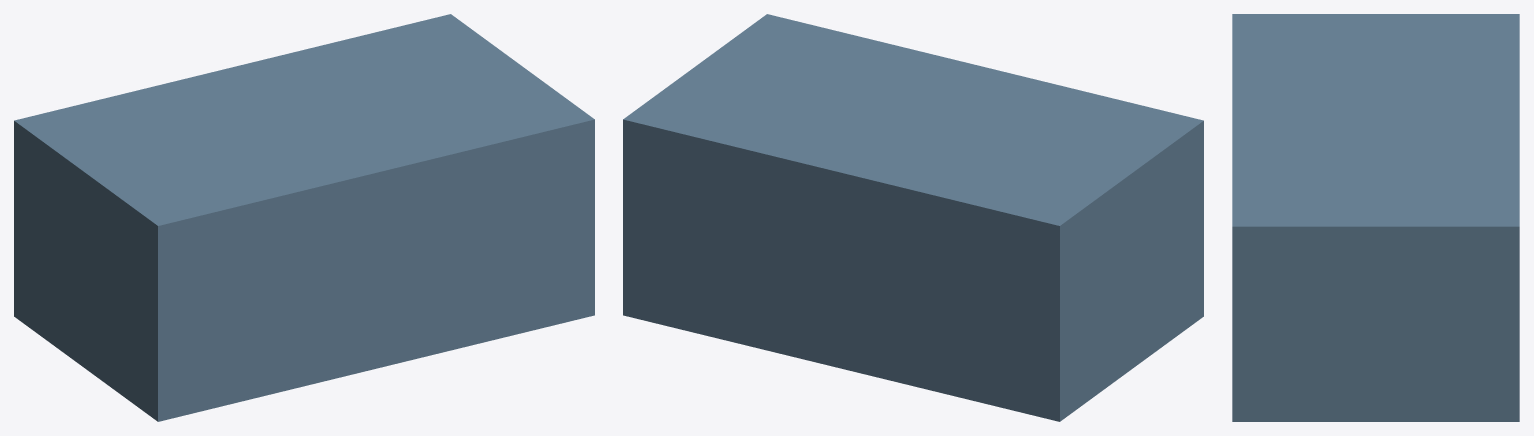
The model's file is pulse_code_modulation_sampling.glb.
The picture shows the model from 3 angles, left to right: view 1: azimuth 30°, elevation 25°; view 2: azimuth 150°, elevation 25°; view 3: azimuth 270°, elevation 25°; orthographic projection.
Visible parts, largest first — view 1: PCMEncoderTrainerUnit; view 2: PCMEncoderTrainerUnit; view 3: PCMEncoderTrainerUnit.
Part boxes in pixels (x1,y1,x2,y2): PCMEncoderTrainerUnit: (14,14,594,421); PCMEncoderTrainerUnit: (623,14,1203,421); PCMEncoderTrainerUnit: (1232,14,1519,421).
Size of the model in its own units: 1.4 by 0.6 by 0.8.
